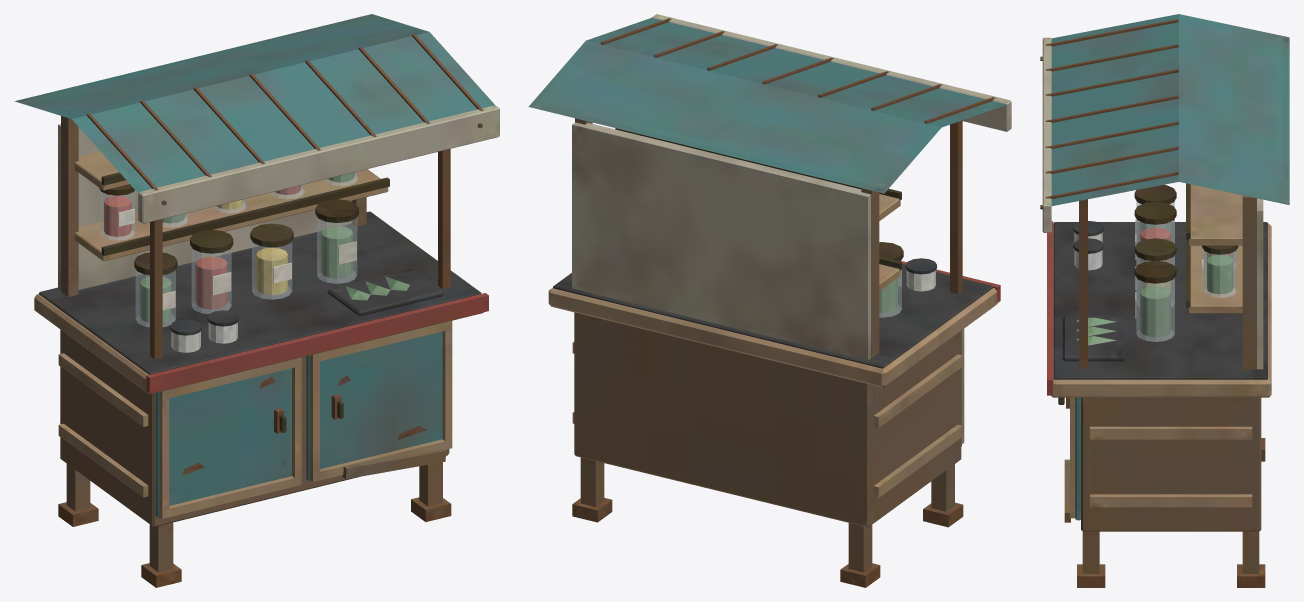
File: W10_paan_kiosk.glb
3 renders of one model, left to right at view 1: azimuth 30°, elevation 25°; view 2: azimuth 150°, elevation 25°; view 3: azimuth 270°, elevation 25°, orthographic. The views are drawn at different scales.
Parts seen in each view (by area): view 1: Square iron foot; view 2: Square iron foot; view 3: Square iron foot.
Boxes of the visible parts, left/top/right/bottom form: Square iron foot: left=14, top=14, right=499, bottom=587; Square iron foot: left=528, top=14, right=1011, bottom=587; Square iron foot: left=1040, top=14, right=1289, bottom=587.
Size of the model in its own units: 1.53 by 1.8 by 0.9628.
Materials: 14 (13 with a texture image).
